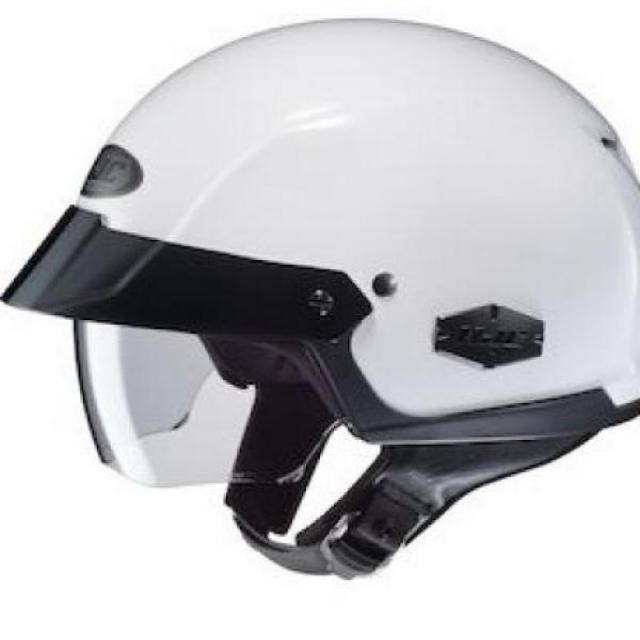Helmet: (21, 22, 640, 584)
